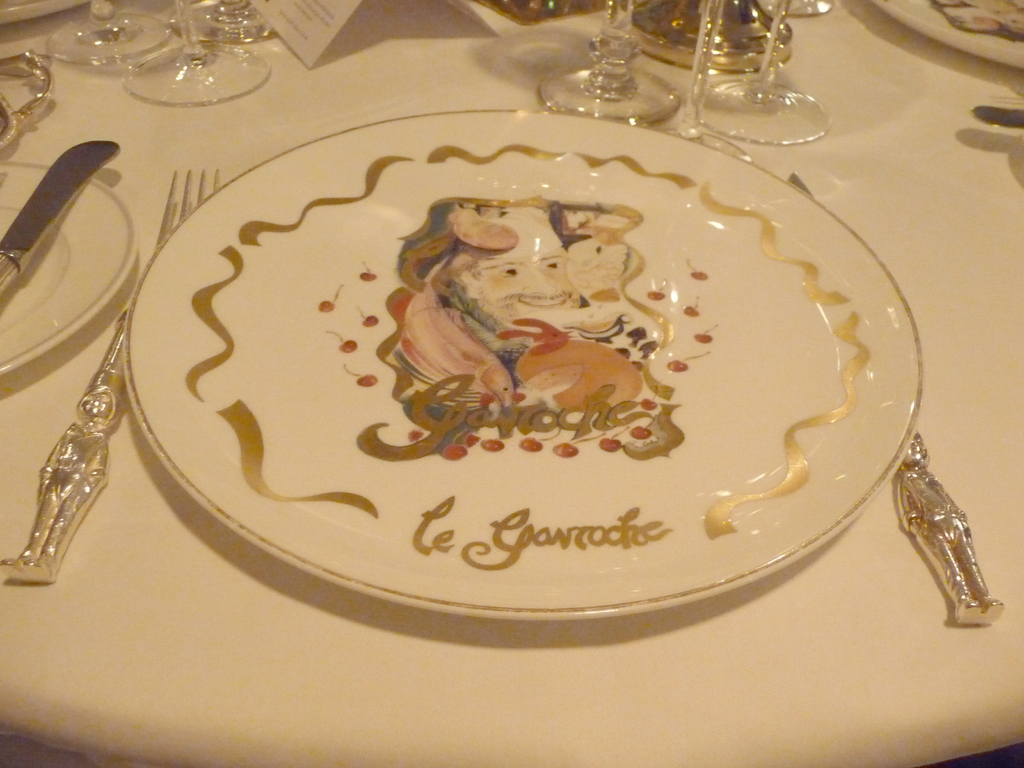plate: (122, 108, 923, 620)
